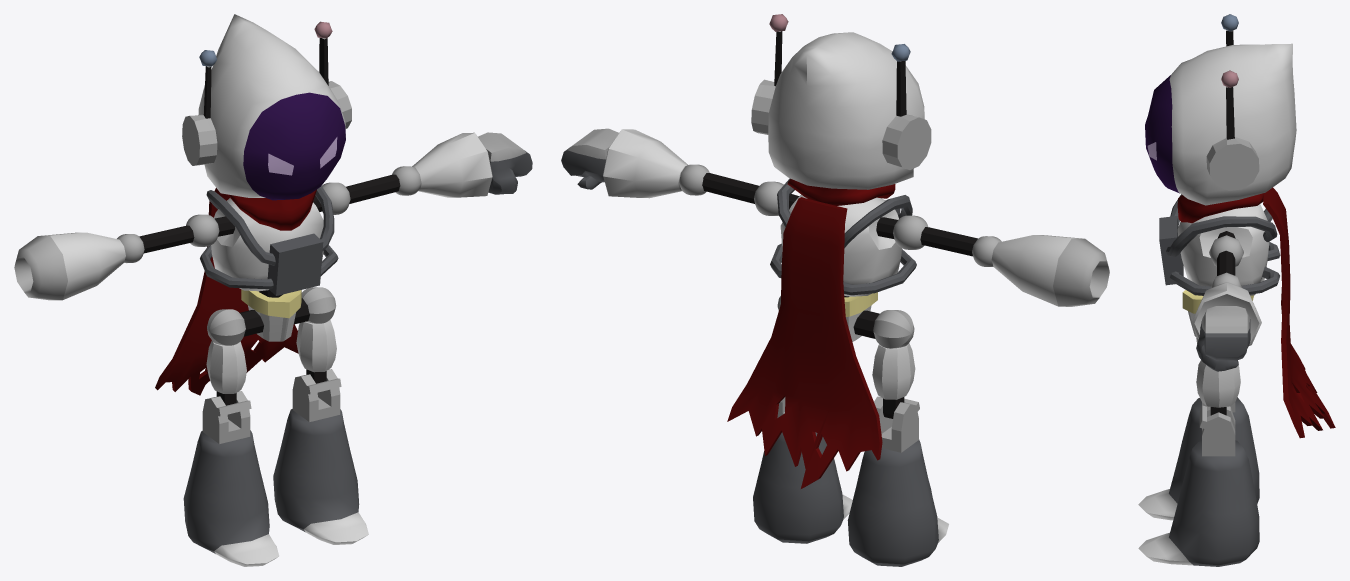
The model's file is contents_MDL.fbx.
3 views of the same model, side by side, from view 1: azimuth 30°, elevation 25°; view 2: azimuth 150°, elevation 25°; view 3: azimuth 270°, elevation 25° (orthographic). The views are drawn at different scales.
Visible parts, largest first — view 1: pCube5; view 2: pCube5; view 3: pCube5.
Boxes of the visible parts, x1=… form: pCube5: x1=14, y1=14, x2=532, y2=566; pCube5: x1=561, y1=14, x2=1109, y2=566; pCube5: x1=1138, y1=14, x2=1335, y2=566.
Size of the model in its own units: 10.58 by 9.91 by 3.63.
